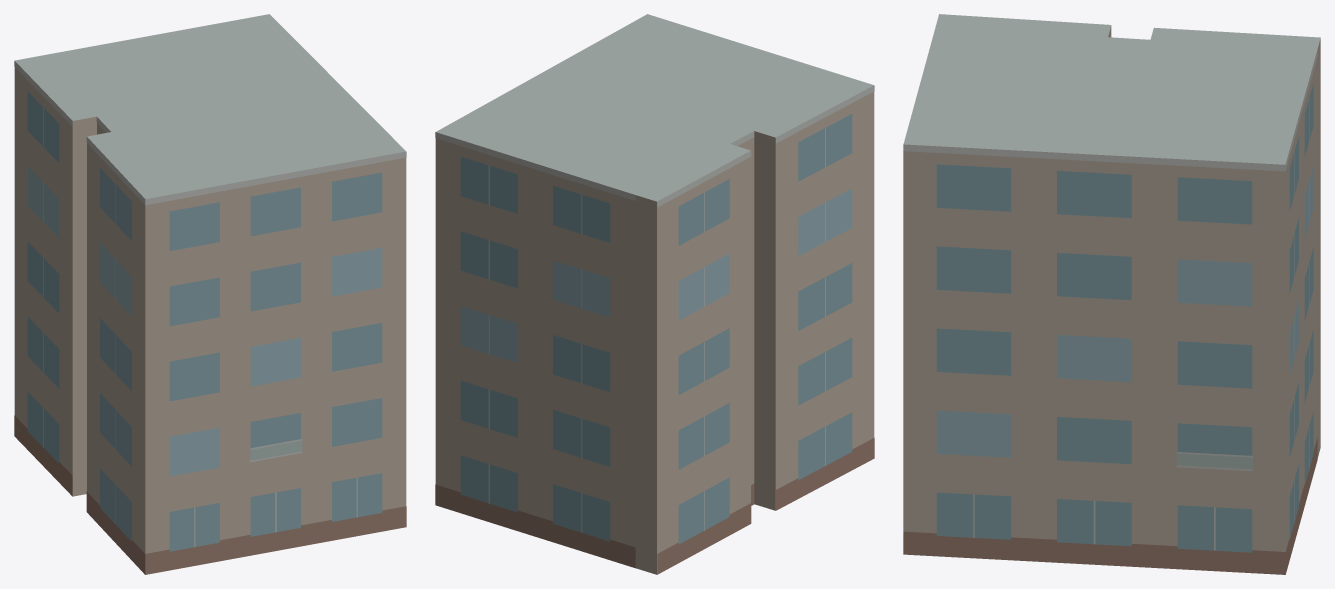
File: survey-upis-32918112.glb
The picture shows the model from 3 angles, left to right: view 1: azimuth 30°, elevation 25°; view 2: azimuth 150°, elevation 25°; view 3: azimuth 270°, elevation 25°; orthographic projection. The views are drawn at different scales.
Visible parts, largest first — view 1: survey-upis-32918112.tmp; view 2: survey-upis-32918112.tmp; view 3: survey-upis-32918112.tmp.
Boxes of the visible parts, x1,y1,x2,y2 form: survey-upis-32918112.tmp: (14,14,406,574); survey-upis-32918112.tmp: (435,14,874,574); survey-upis-32918112.tmp: (903,14,1320,574).
Bounding box in the file's own units: 11.92 × 15.1 × 13.93.
